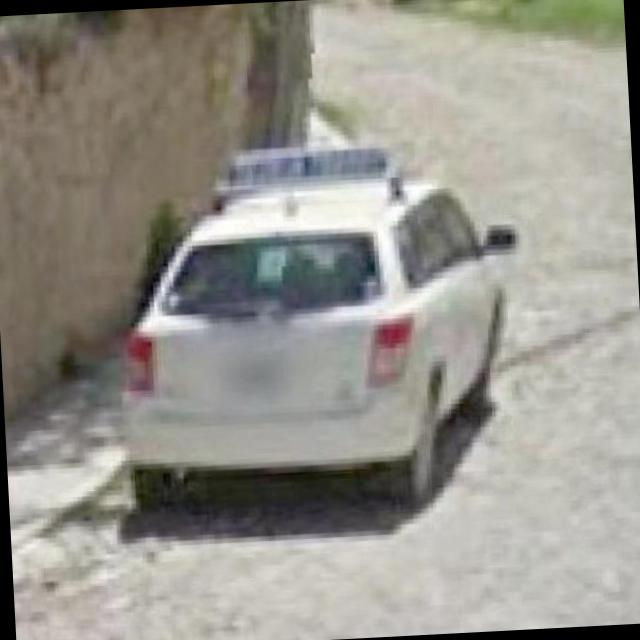car: (109, 178, 513, 500)
